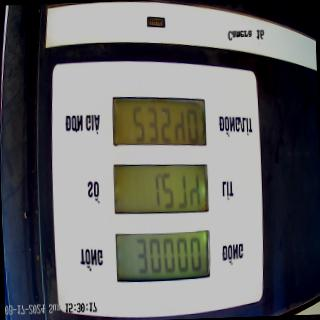screen: (108, 88, 213, 288)
